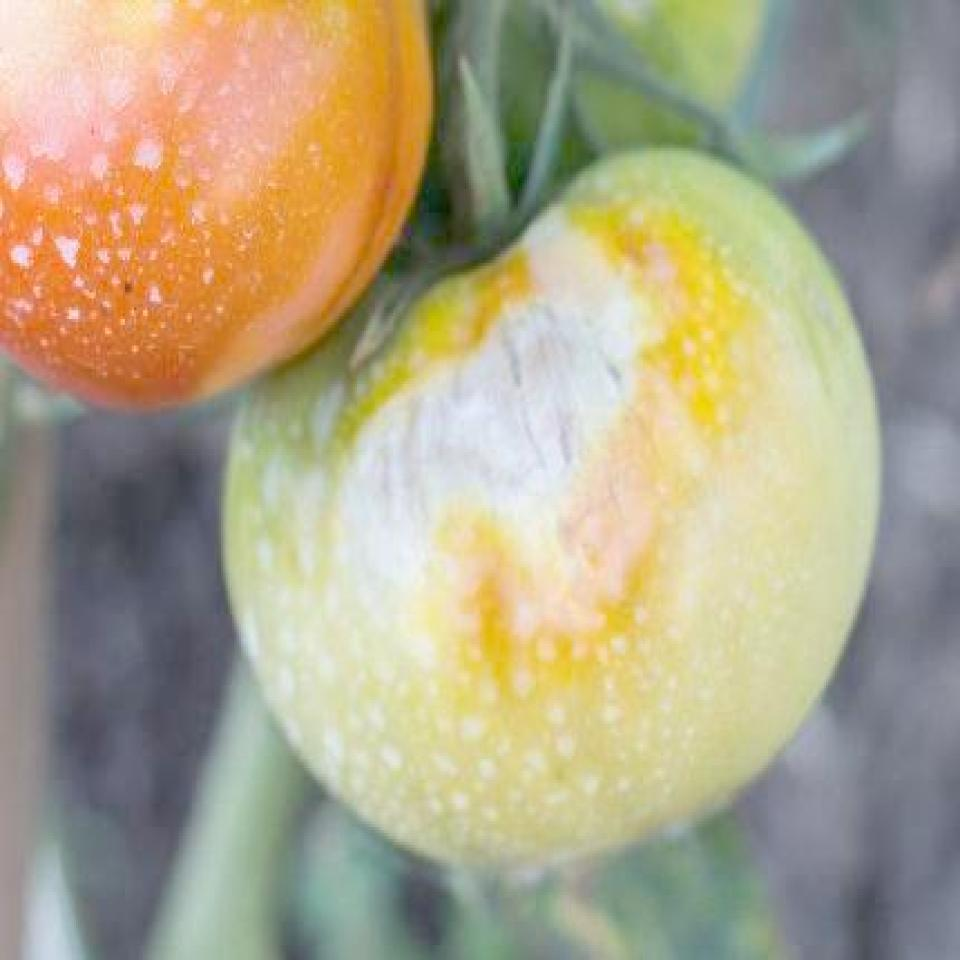Healthy: (2, 0, 445, 408)
